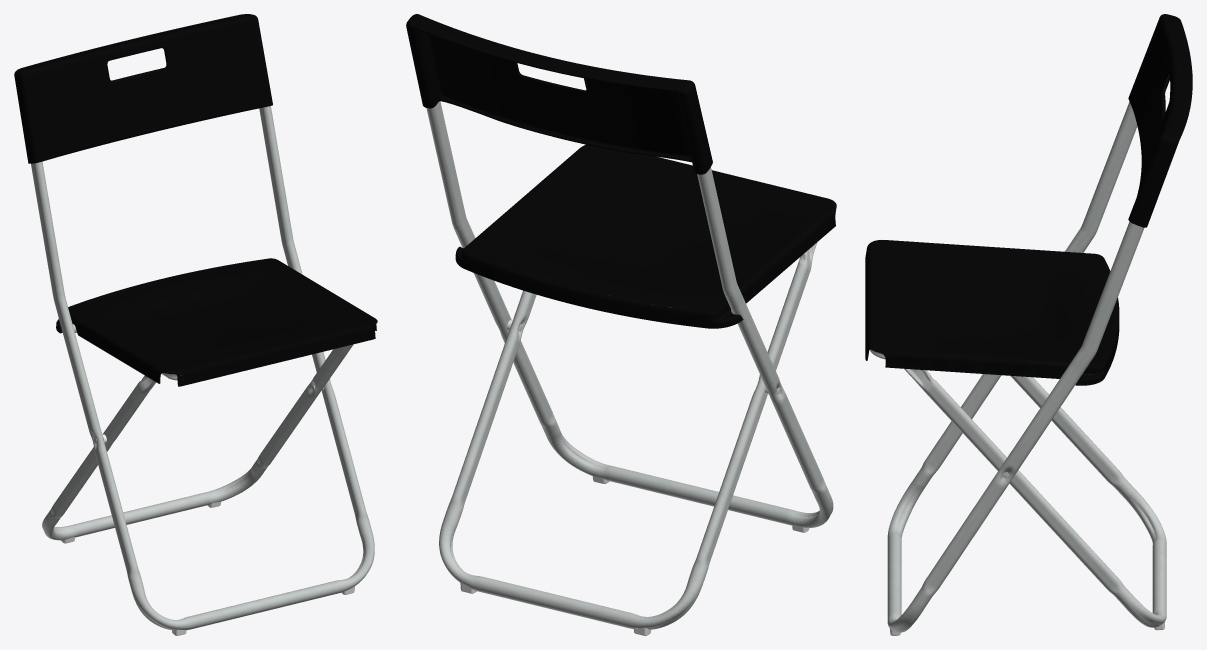
The picture shows the model from 3 angles, left to right: view 1: azimuth 30°, elevation 25°; view 2: azimuth 150°, elevation 25°; view 3: azimuth 270°, elevation 25°; orthographic projection. The views are drawn at different scales.
Visible parts, largest first — view 1: Mesh_0; view 2: Mesh_0; view 3: Mesh_0.
Part boxes in pixels (x1=…): Mesh_0: x1=14, y1=14, x2=377, y2=635; Mesh_0: x1=406, y1=14, x2=836, y2=635; Mesh_0: x1=865, y1=14, x2=1192, y2=635.
Bounding box in the file's own units: 0.4101 × 0.78 × 0.45.
Materials: 1 (1 with a texture image).
